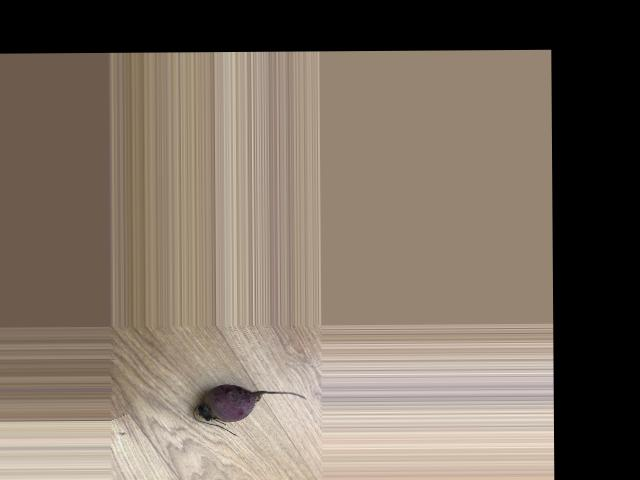beet: (193, 383, 307, 435)
